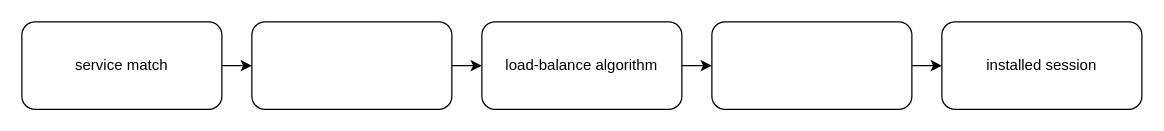
This 1164x131 diagram has some shape labels left out. The centre of each missing label's shape, as x and y in pixels:
egress member: point (811, 65)
SLA eligibility filter: point (351, 65)
